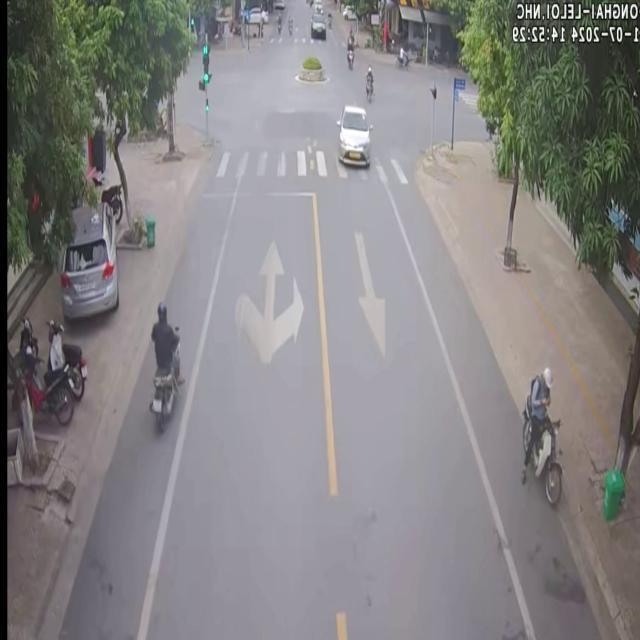car: (58, 200, 117, 318), (336, 102, 370, 164), (309, 11, 324, 37)
green_light: (202, 45, 210, 85)
motobike: (519, 365, 560, 502), (148, 300, 182, 429), (20, 345, 72, 422), (46, 318, 84, 398), (364, 65, 372, 100)
stop_line: (197, 189, 314, 196)
